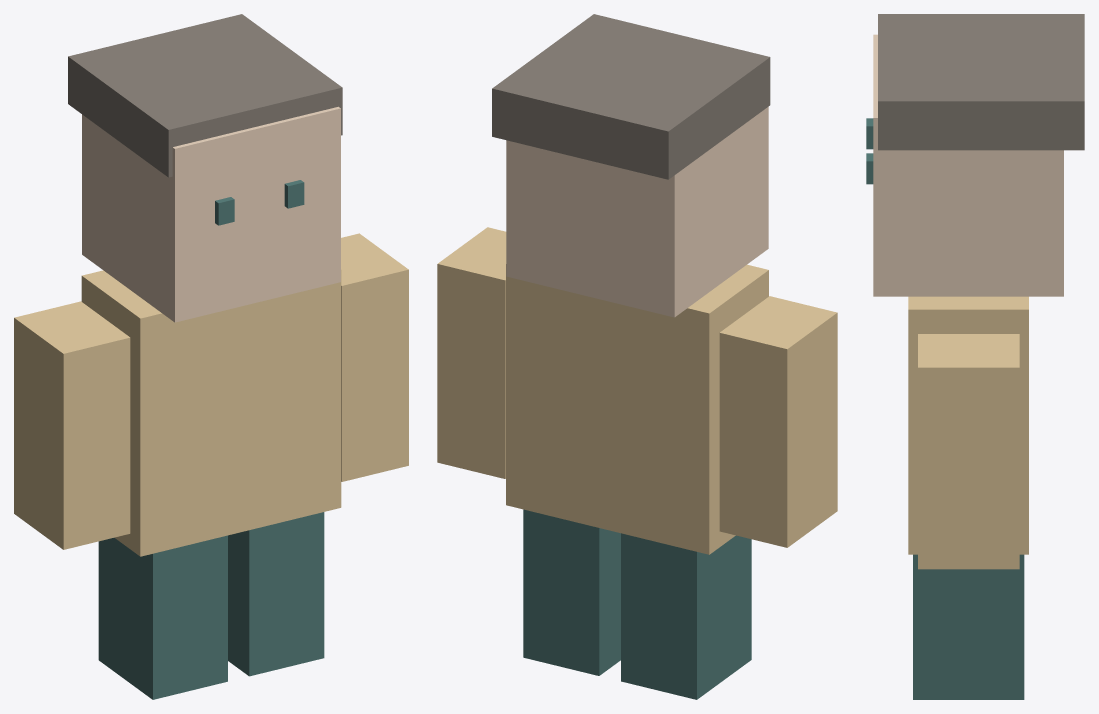
File: player_avatar.glb
3 views of the same model, side by side, from view 1: azimuth 30°, elevation 25°; view 2: azimuth 150°, elevation 25°; view 3: azimuth 270°, elevation 25° (orthographic). The views are drawn at different scales.
Visible parts, largest first — view 1: jacket, arm (×2), head, boot (×2), hair; view 2: jacket, arm (×2), head, boot (×2), hair; view 3: head, hair, arm, boot, jacket.
Part boxes in pixels (x1,y1,x2,y2): jacket: (81,270,341,556); arm (×2): (14,233,408,549); head: (82,106,340,322); boot (×2): (98,512,324,699); hair: (68,14,342,177); jacket: (506,264,768,554); arm (×2): (437,227,837,547); head: (506,107,768,317); boot (×2): (523,509,751,699); hair: (492,14,770,179); head: (873,34,1063,296); hair: (878,14,1084,150); arm: (918,334,1019,569); boot: (913,554,1024,699); jacket: (908,296,1028,554).
Size of the model in its own units: 1.29 by 2.08 by 0.6875.
